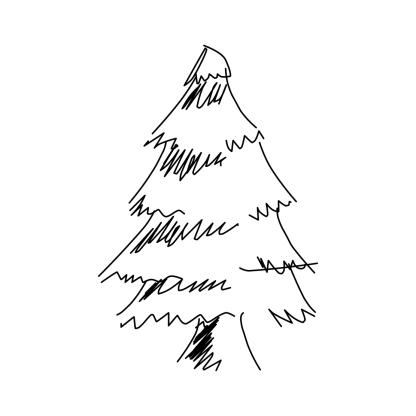trunk_bark: (178, 326, 256, 362)
